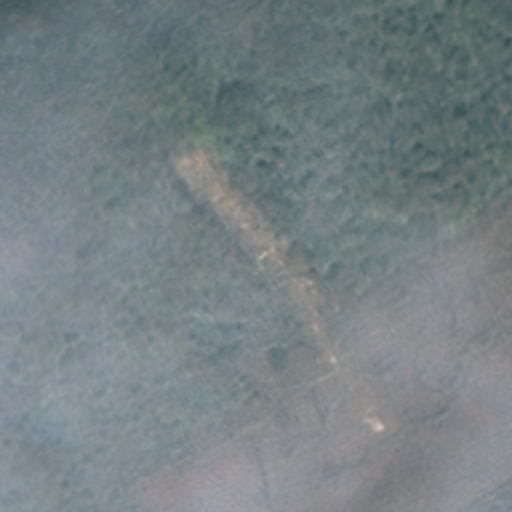landslide: (176, 143, 329, 338)
